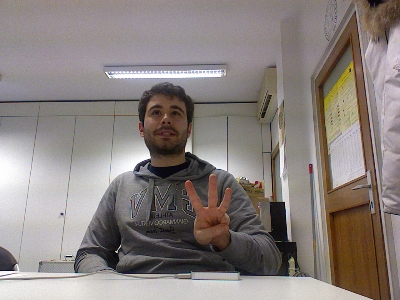三分: (183, 172, 234, 248)
